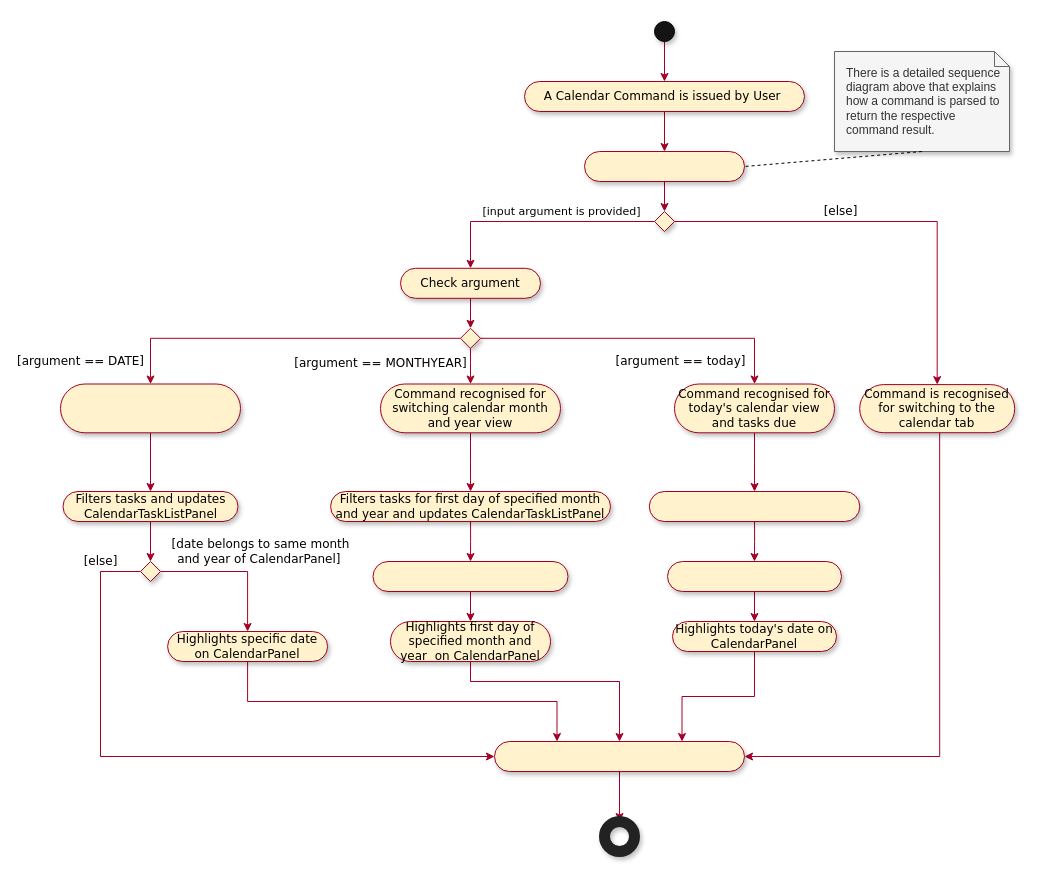
Image size: 1039x881. Some labels were removed from this diagram. Each missing label, with the centre of its shape:
"Command is parsed" goes at point (665, 167).
"Command recognised for viewing tasks due on specific date" goes at point (151, 409).
"Display updates on CalendarMainPanel" goes at point (620, 757).
"Filters tasks due today and updates CalendarTaskListPanel" goes at point (755, 507).
"Switch to specified month and year on CalendarPanel" goes at point (471, 577).
"Switch to today's month and year on CalendarPanel" goes at point (755, 577).
